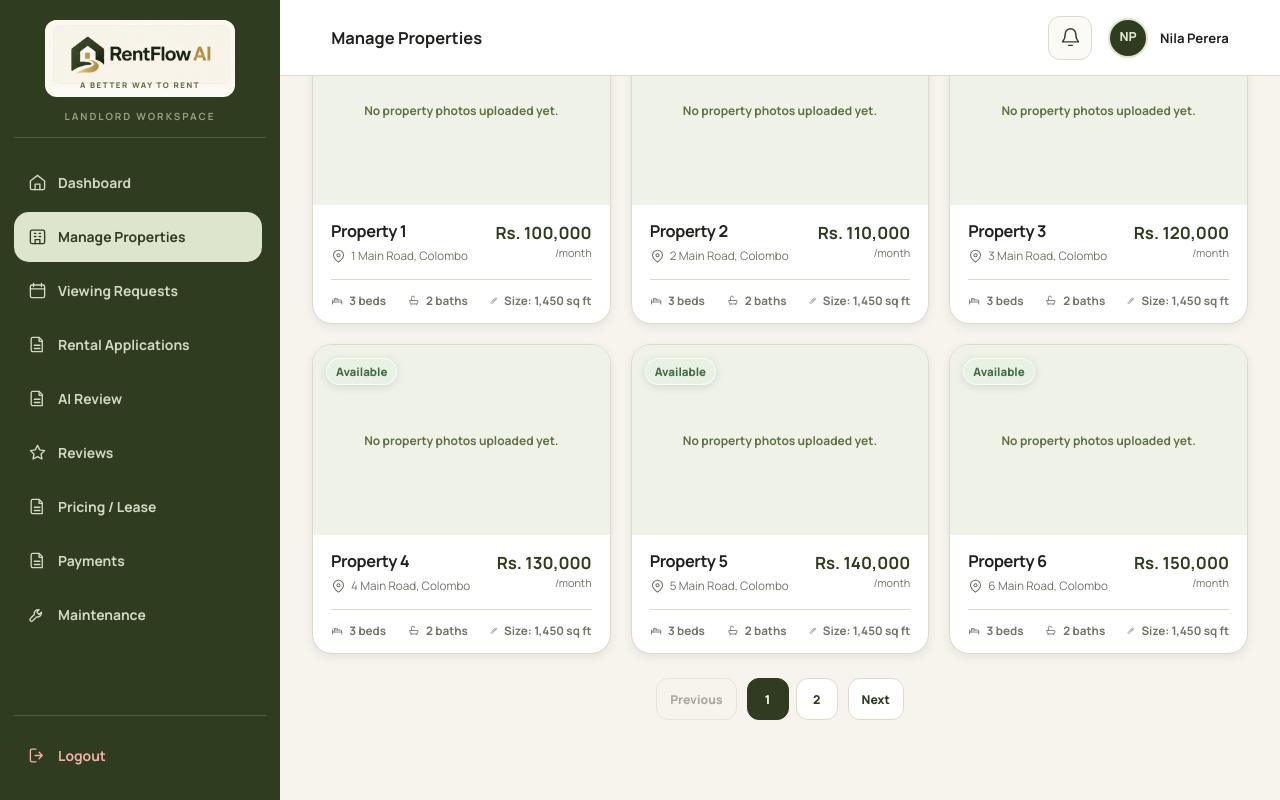
Test: owned property landlord workflow integration › paginates six properties at a time and resets to page one after search
This screenshot has width=1280, height=800.
(page scrolled)
Expected: the heading "Property 1" is shown, [331,220,406,242]
Expected: the heading "Property 7" is not shown
Click the button "Next" at point(876, 699), box [848,678,904,720]
(page scrolled)
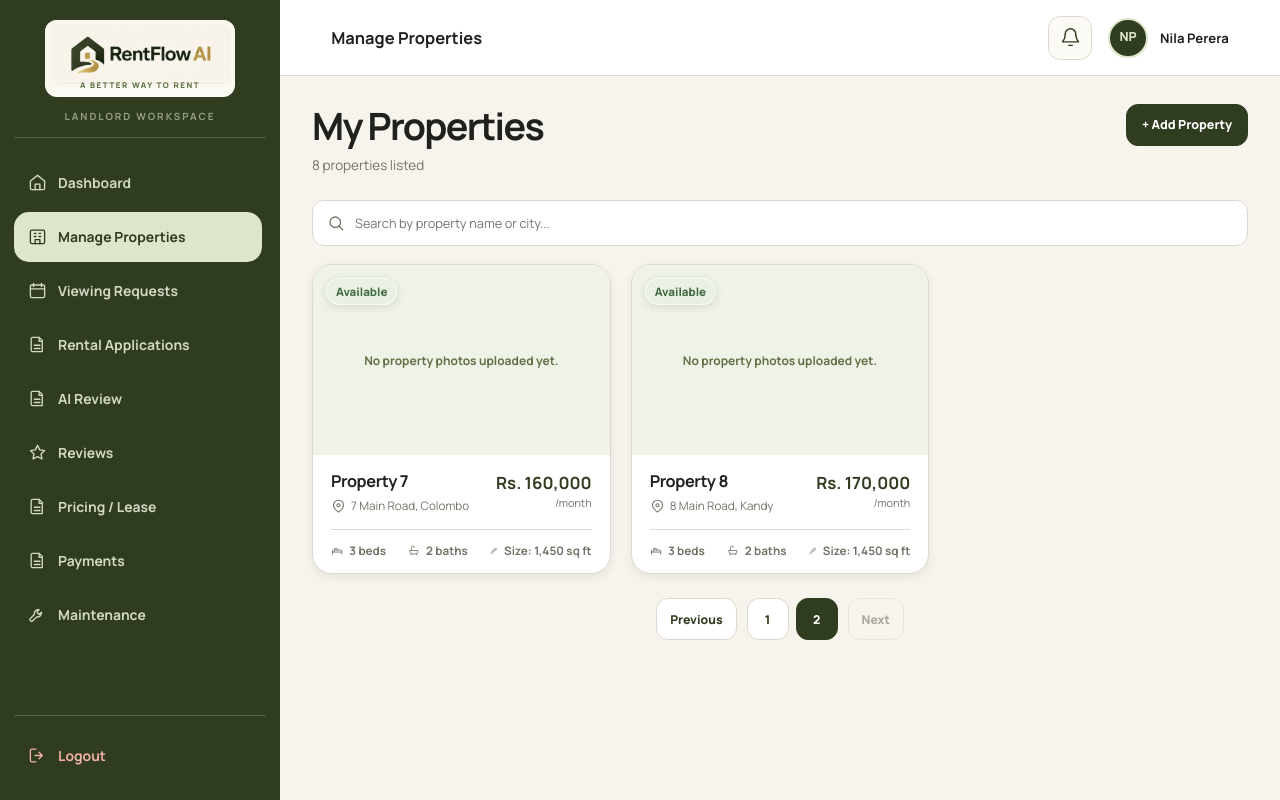
Expected: the heading "Property 7" is shown, [331,470,408,492]
Type "Colombo" into the search field named "Search properties by title or city" at point(789, 223), box [355,201,1223,245]
(page scrolled)
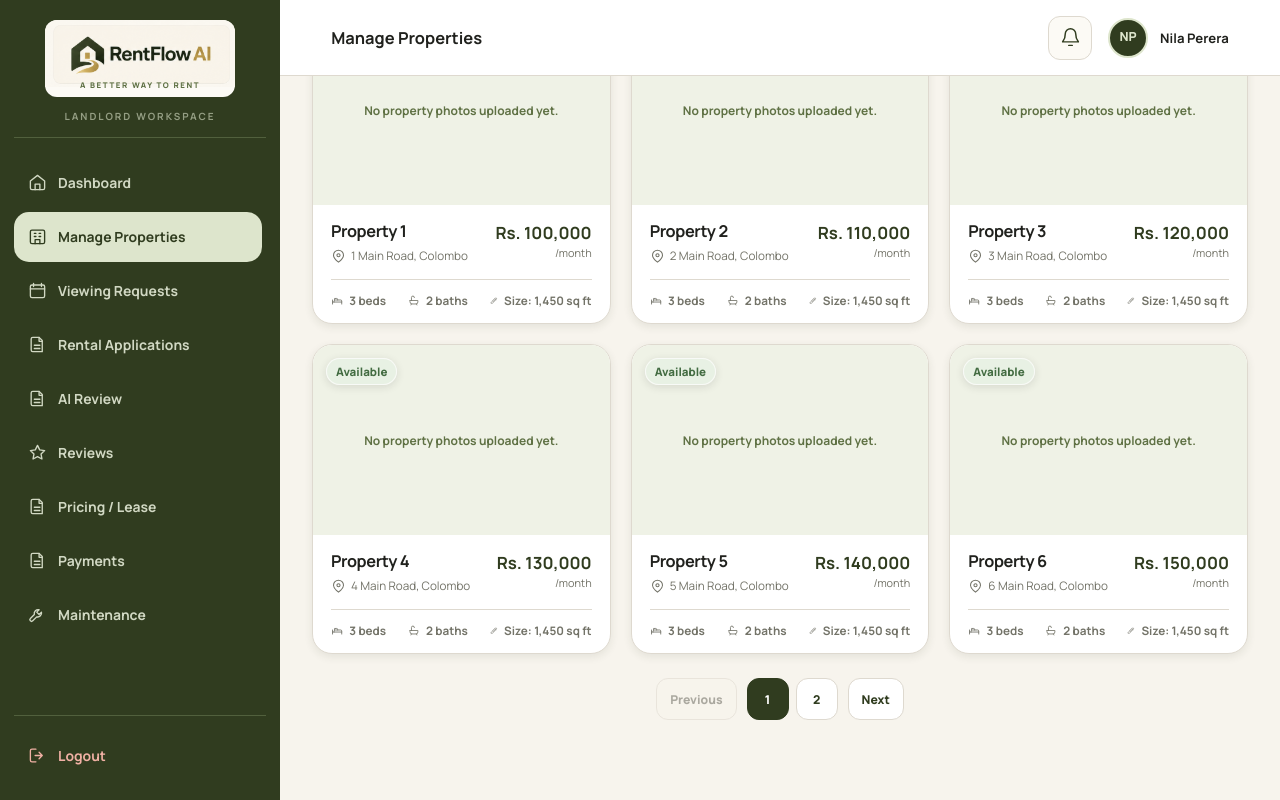
Expected: the heading "Property 1" is shown, [331,220,406,242]
Expected: the button "Previous" is disabled, [656,678,737,720]
